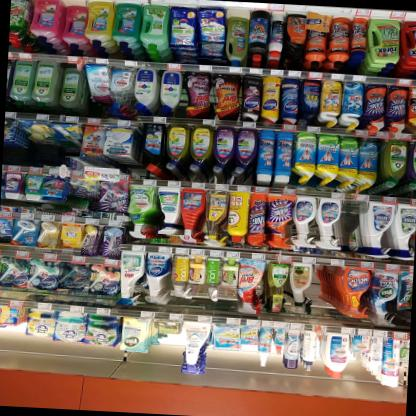empty_space: (309, 266, 322, 309), (340, 197, 351, 246)
